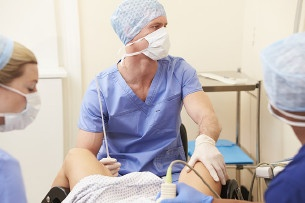Mask: (139, 19, 182, 62)
